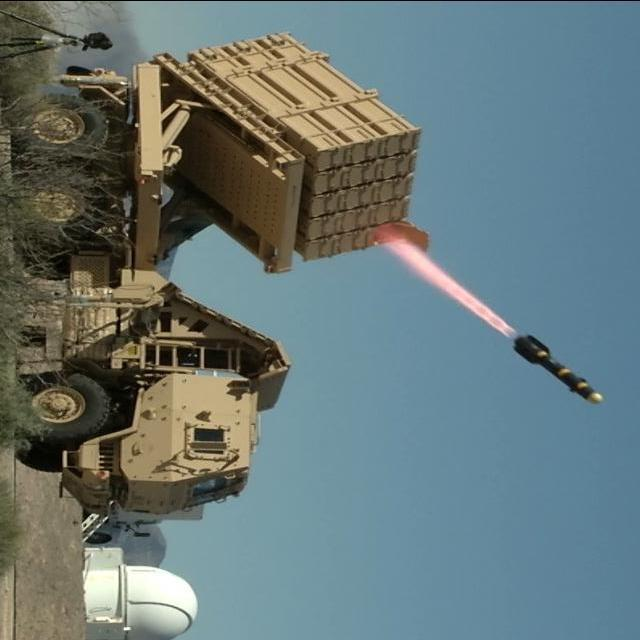missile: (503, 332, 608, 407)
